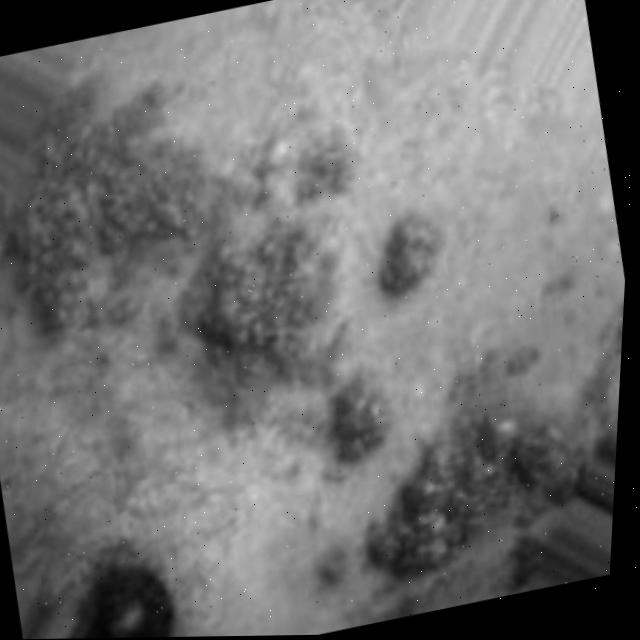Shingles: (0, 15, 490, 522), (321, 334, 608, 601)
